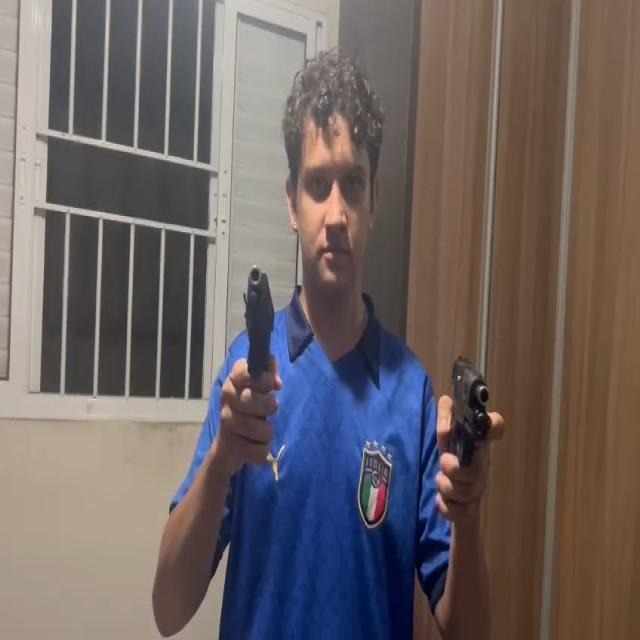gun: (447, 351, 493, 472), (244, 261, 276, 376)
